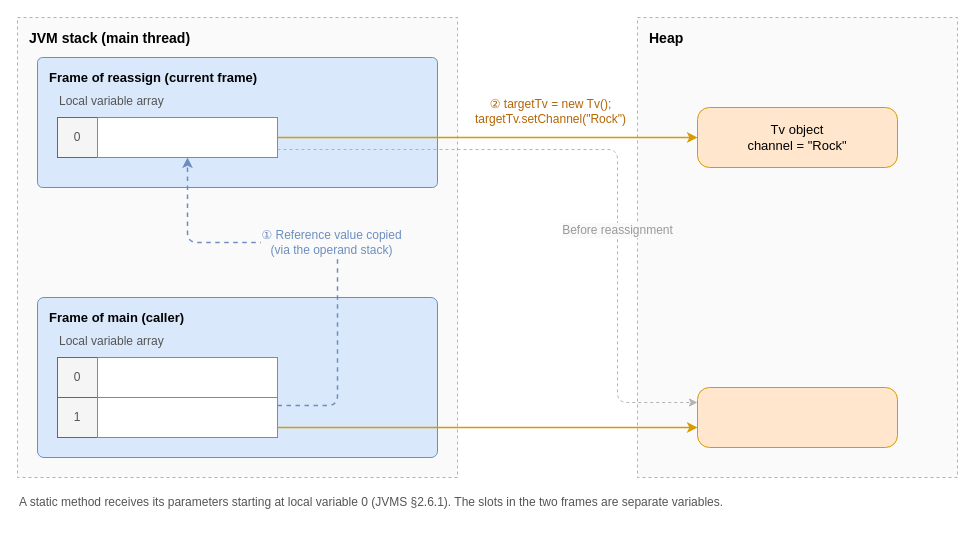
This 975x535 diagram has some shape labels left out. Each missing label, with the centre of its shape:
args: pixel 187 377
myTv: pixel 187 417
targetTv: pixel 187 137
Tv object channel = "Classic": pixel 797 417
